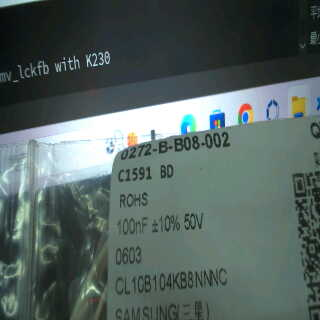100nF: (114, 214, 151, 239)
